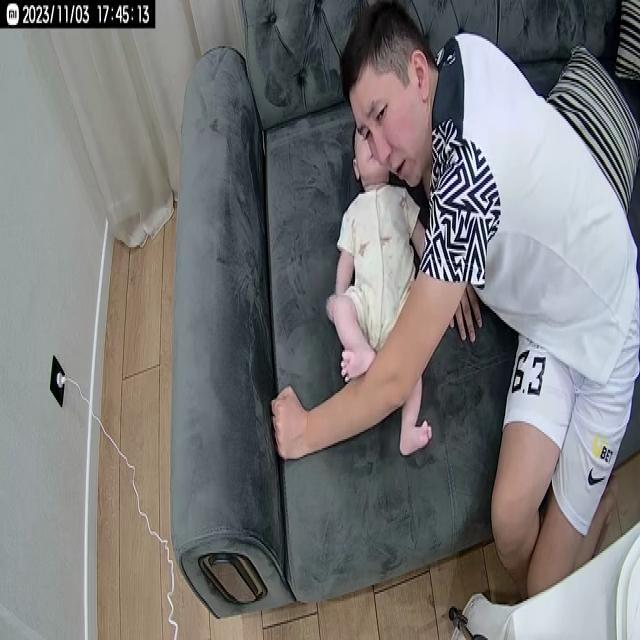baby: (326, 114, 436, 462)
